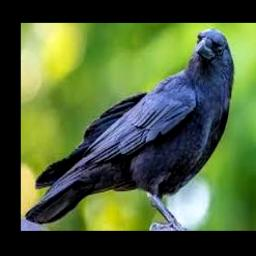Crow: (25, 28, 235, 229)
